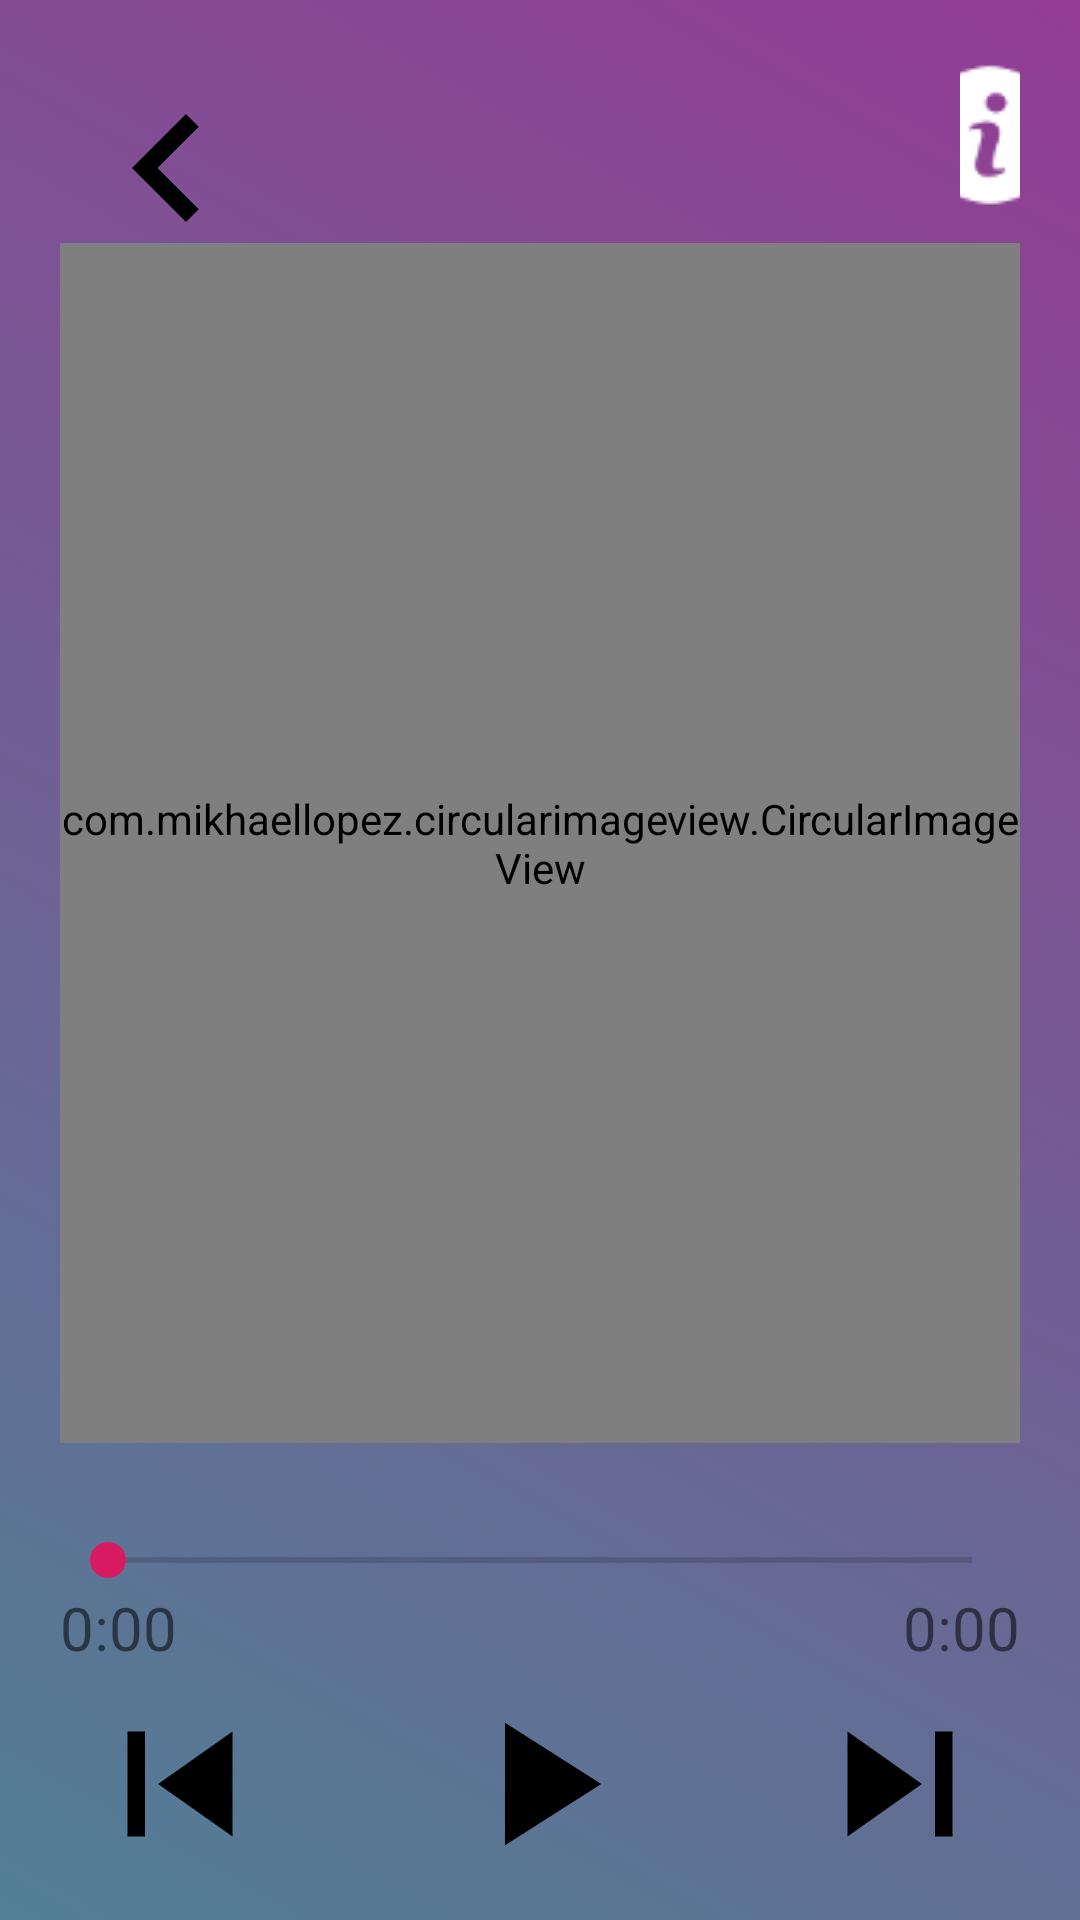

Icon click points for this 1080x1920 phone screenshot, format (x,y):
info: (990,135)
next: (900,1784)
play: (553,1784)
prev: (180,1784)
